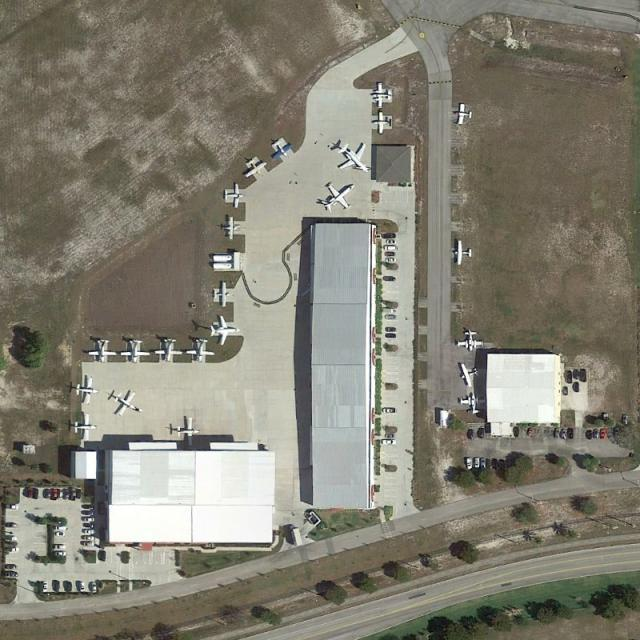vehicle: (382, 440, 397, 446), (382, 408, 396, 414), (466, 458, 473, 470), (478, 427, 484, 440), (566, 370, 572, 383), (581, 368, 586, 382), (384, 276, 396, 281), (386, 327, 398, 332), (467, 429, 473, 439), (493, 458, 498, 470), (568, 428, 574, 438), (54, 545, 66, 550), (384, 246, 398, 250), (481, 458, 486, 469), (486, 458, 491, 469), (561, 429, 566, 440), (623, 415, 628, 426), (53, 489, 58, 500), (7, 505, 18, 510), (6, 522, 17, 527), (6, 571, 17, 576), (58, 489, 64, 498), (383, 234, 396, 238), (6, 564, 16, 569), (56, 532, 66, 537), (80, 582, 85, 592), (92, 583, 97, 593), (101, 551, 106, 561), (386, 315, 398, 319), (385, 334, 397, 338), (56, 526, 68, 530), (54, 552, 66, 556), (82, 511, 94, 515), (587, 430, 592, 439), (601, 430, 606, 439), (574, 382, 579, 391), (28, 488, 33, 497), (386, 258, 397, 262), (555, 429, 559, 440), (71, 489, 75, 500), (85, 536, 96, 540), (55, 581, 59, 592), (386, 240, 396, 244), (386, 252, 396, 256), (385, 434, 395, 438), (475, 458, 479, 468), (594, 430, 598, 440), (574, 369, 578, 379), (23, 488, 28, 496), (34, 488, 38, 498), (77, 488, 81, 498), (84, 518, 94, 522), (85, 530, 95, 534), (84, 542, 94, 546), (68, 582, 72, 592), (46, 489, 50, 498), (8, 536, 17, 540), (43, 582, 47, 591), (563, 386, 567, 394), (10, 548, 18, 552), (528, 429, 532, 436), (66, 489, 69, 498), (84, 506, 93, 509), (85, 524, 94, 527)
